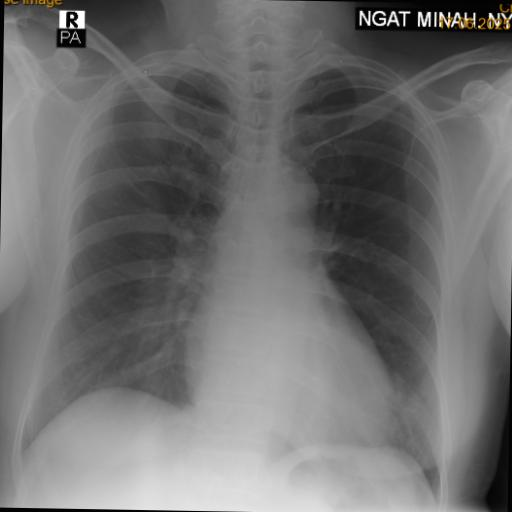kardiomegali: (172, 266, 409, 468)
